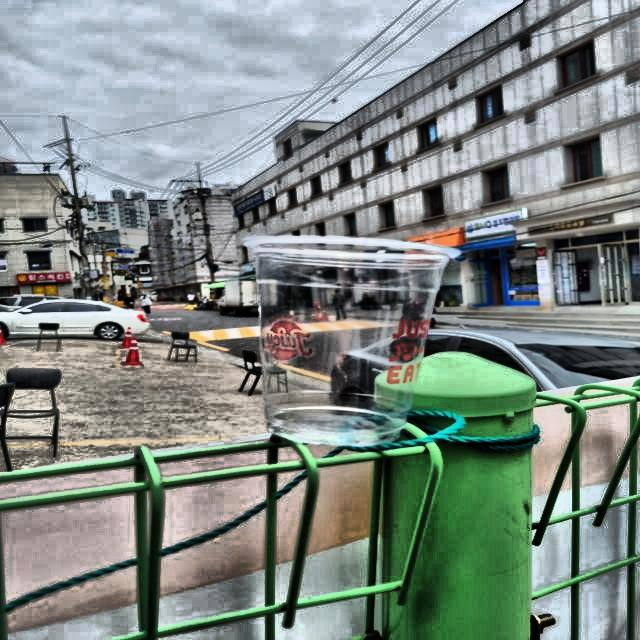plastic cup: (232, 225, 476, 460)
